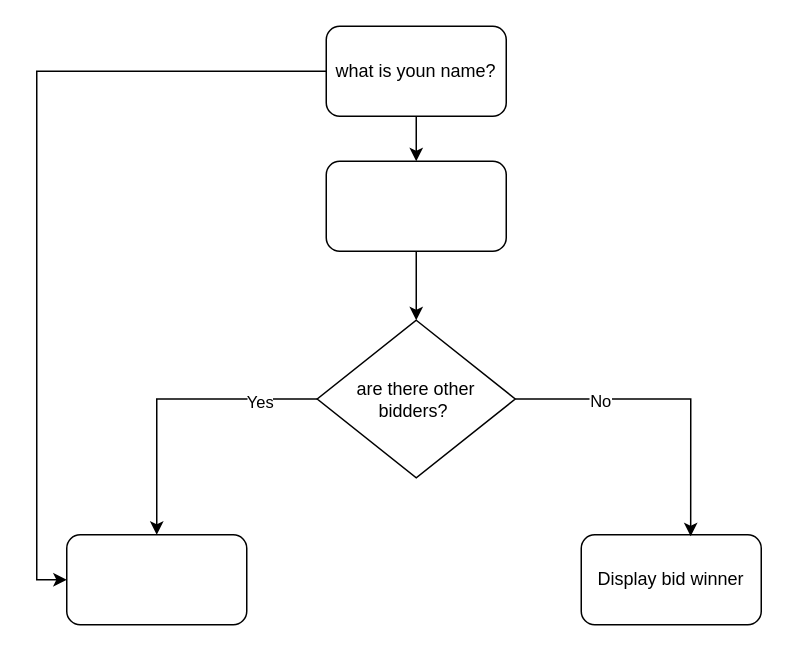
This 788x651 diagram has some shape labels left out. Each missing label, with the box of its shape:
clear output: (65, 533, 247, 625)
what is your bid?: (325, 160, 506, 251)
